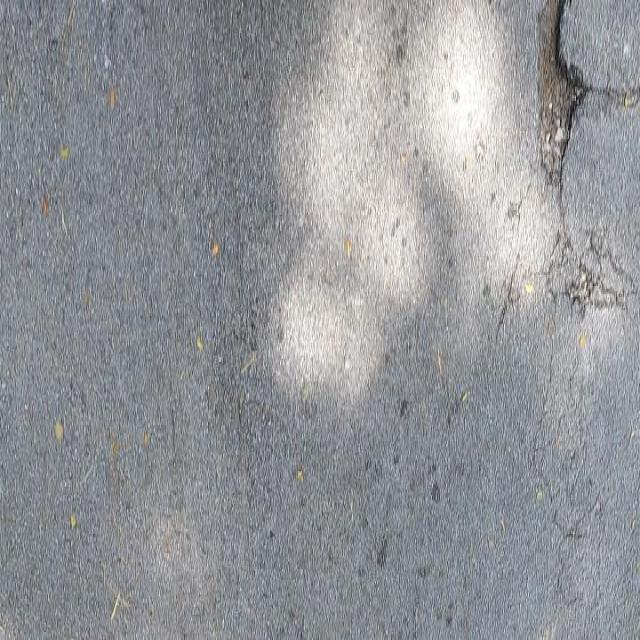potholes: (484, 0, 640, 332)
